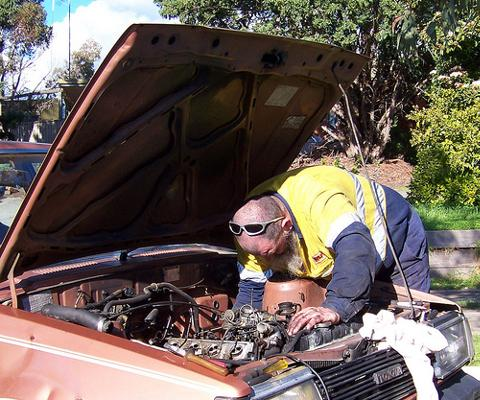person: (231, 162, 434, 336)
